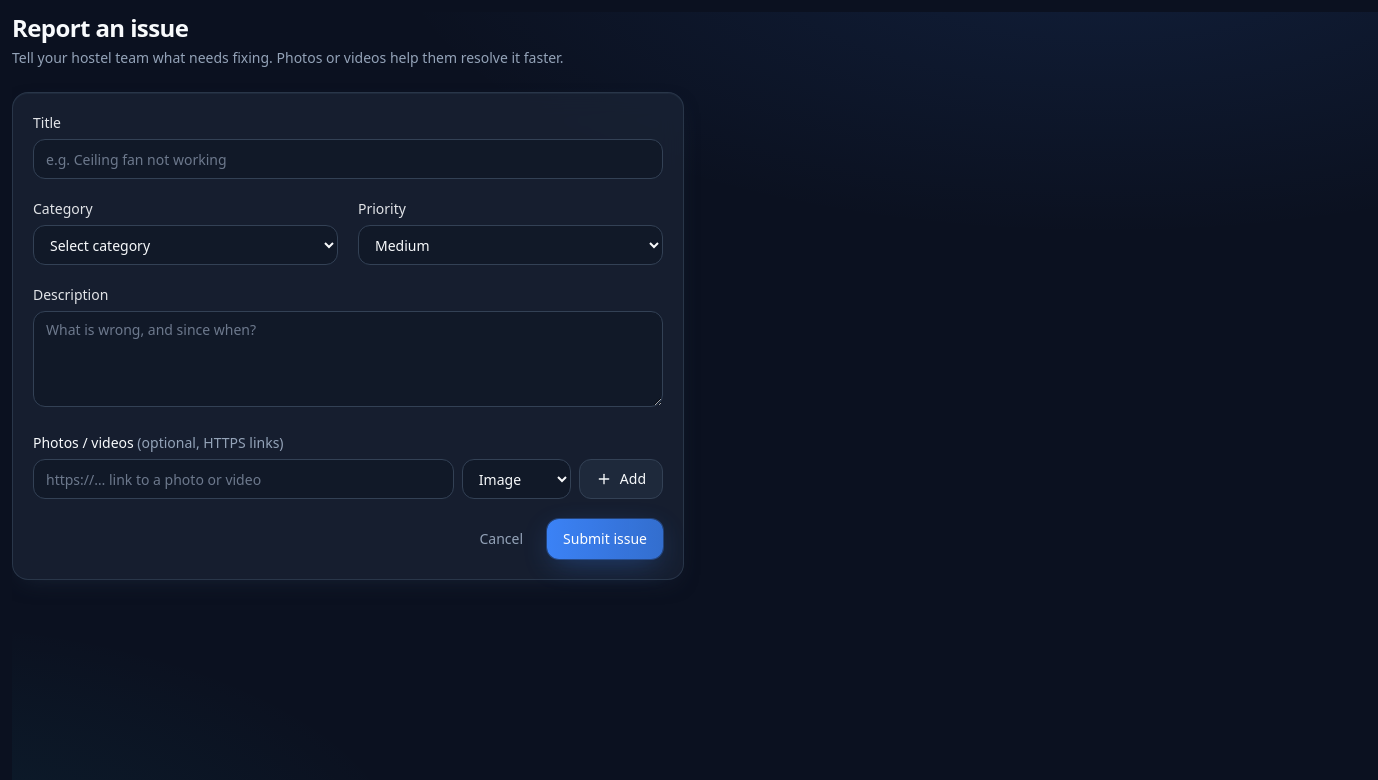
Test: create issue form › rejects non-https media links and submits a valid issue
In the field labelled "Title": (348, 159) [33,139,663,179], type "Leaking tap"
Select "Plumbing" in the dropdown labelled "Category": (186, 245) [33,225,338,265]
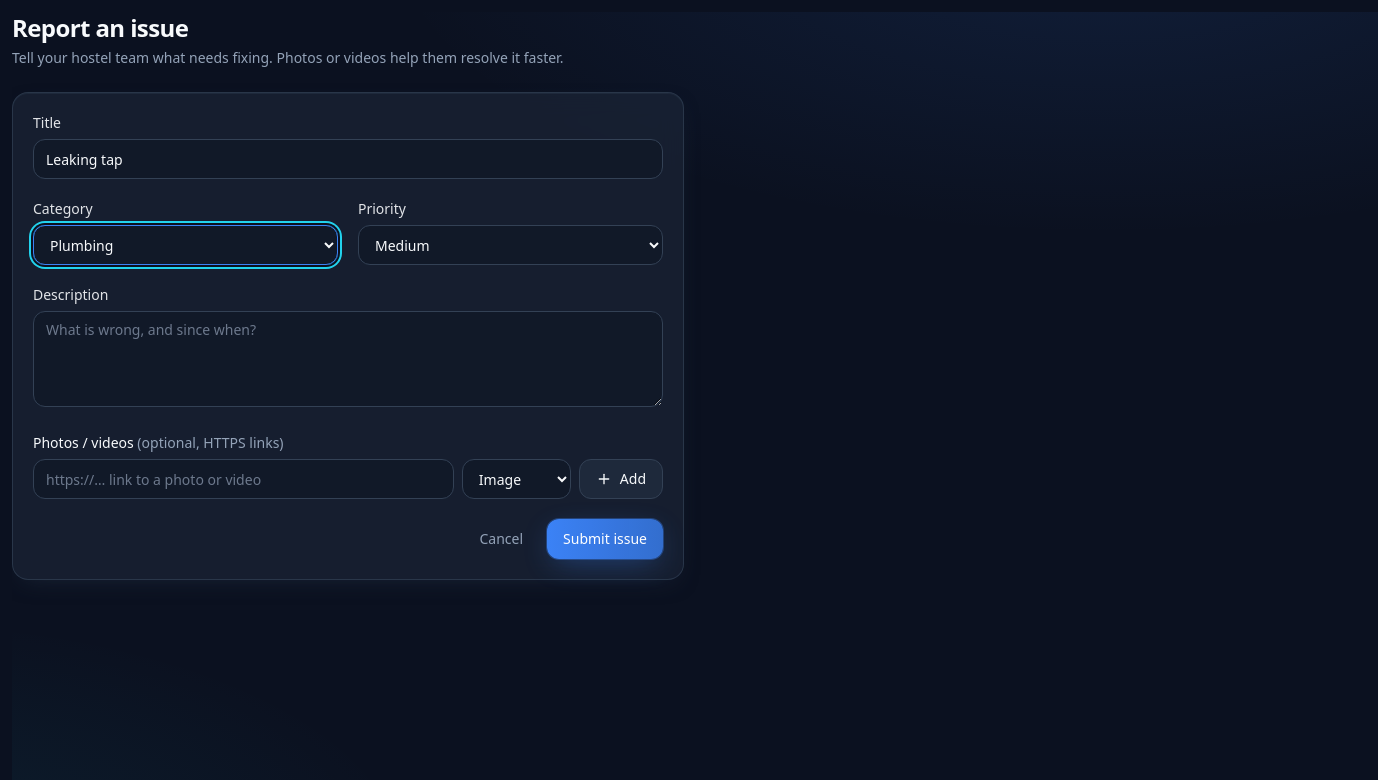
In the text box labelled "Description": (348, 359) [33,311,663,407], type "The tap in the bathroom leaks constantly."
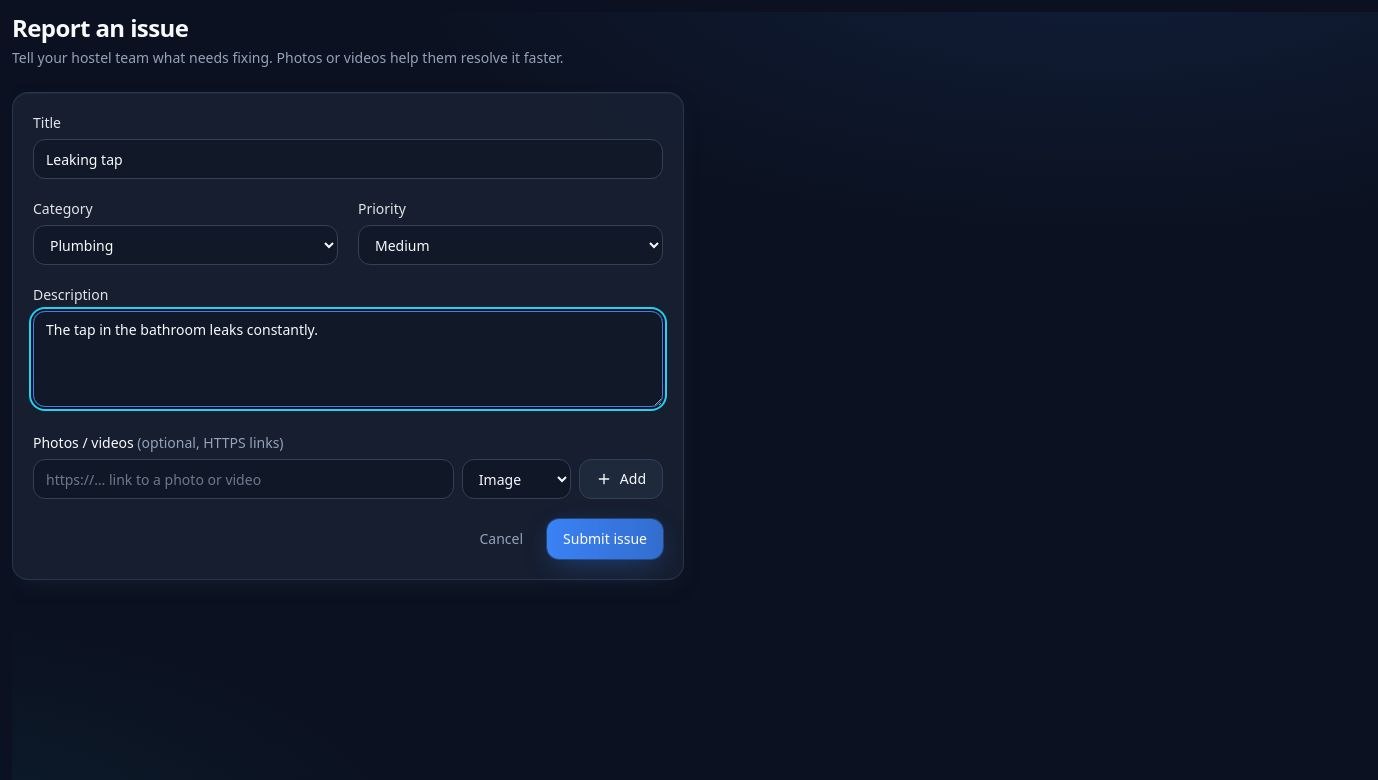
In the field named "Media URL": (243, 479) [33,459,454,499], type "http://insecure.example/a.png"
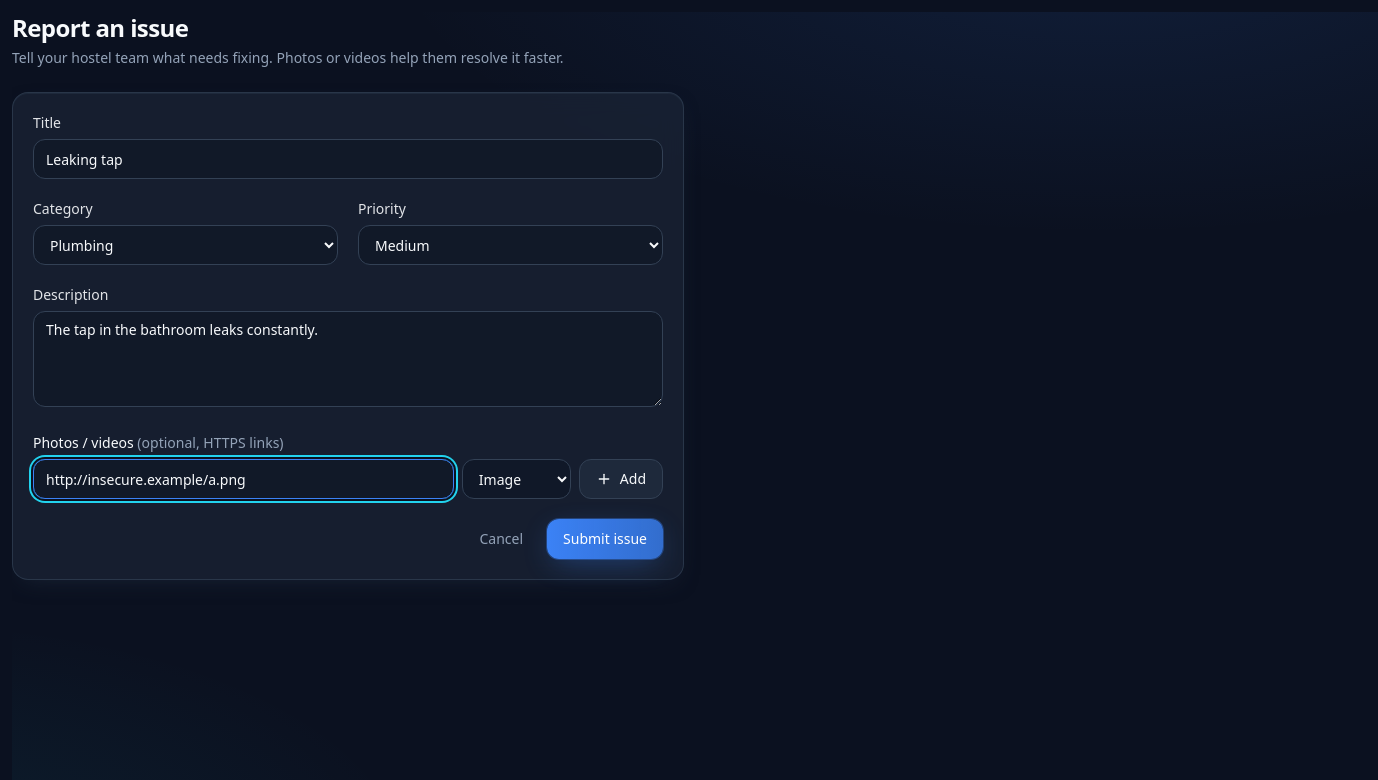
Click the button "Add": (621, 479) [579,459,663,499]
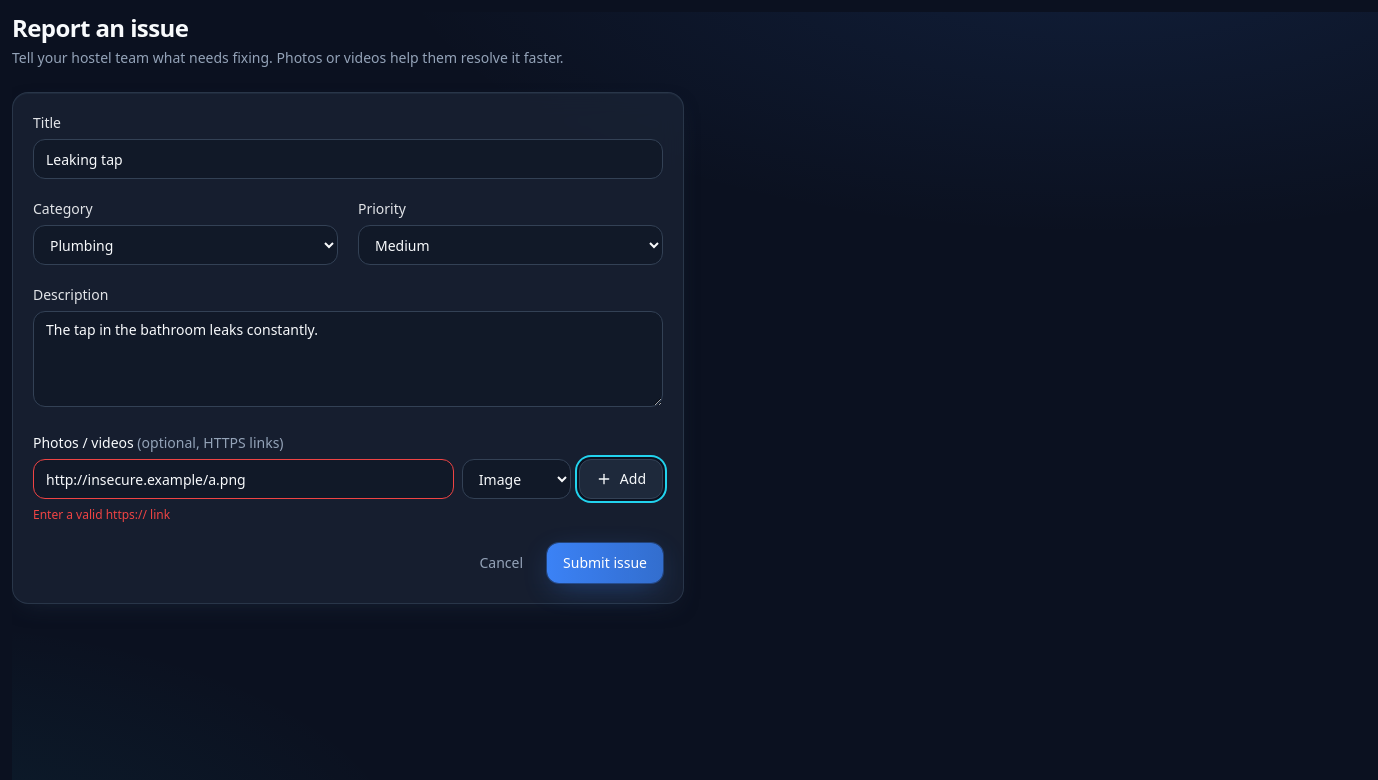
Check: the text "Enter a valid https:// link" is shown, box [33,506,170,523]
Replace the text in the field named "Media URL" with "https://picsum.photos/seed/a/600/400": (243, 479) [33,459,454,499]
Click the button "Add": (621, 479) [579,459,663,499]
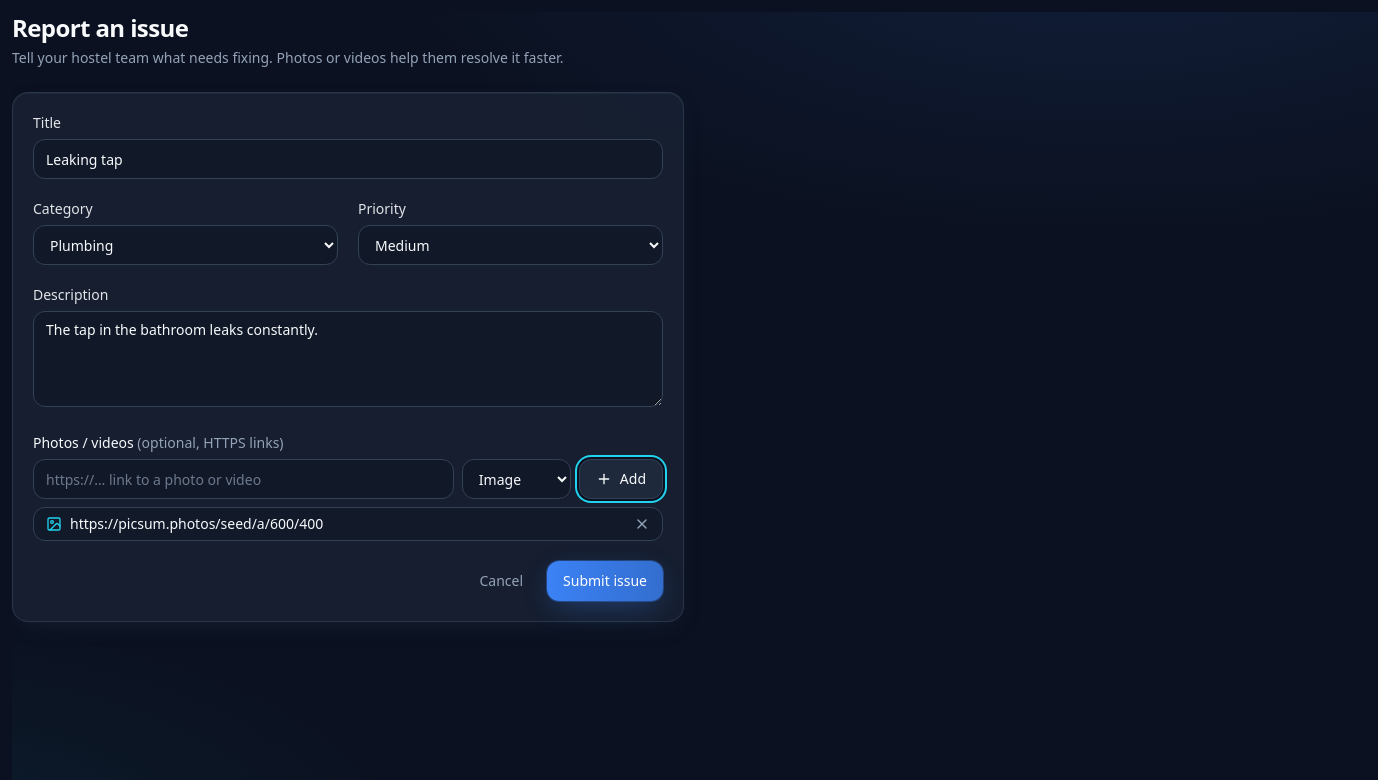
Click the button "Submit issue": (605, 581) [547,561,663,601]
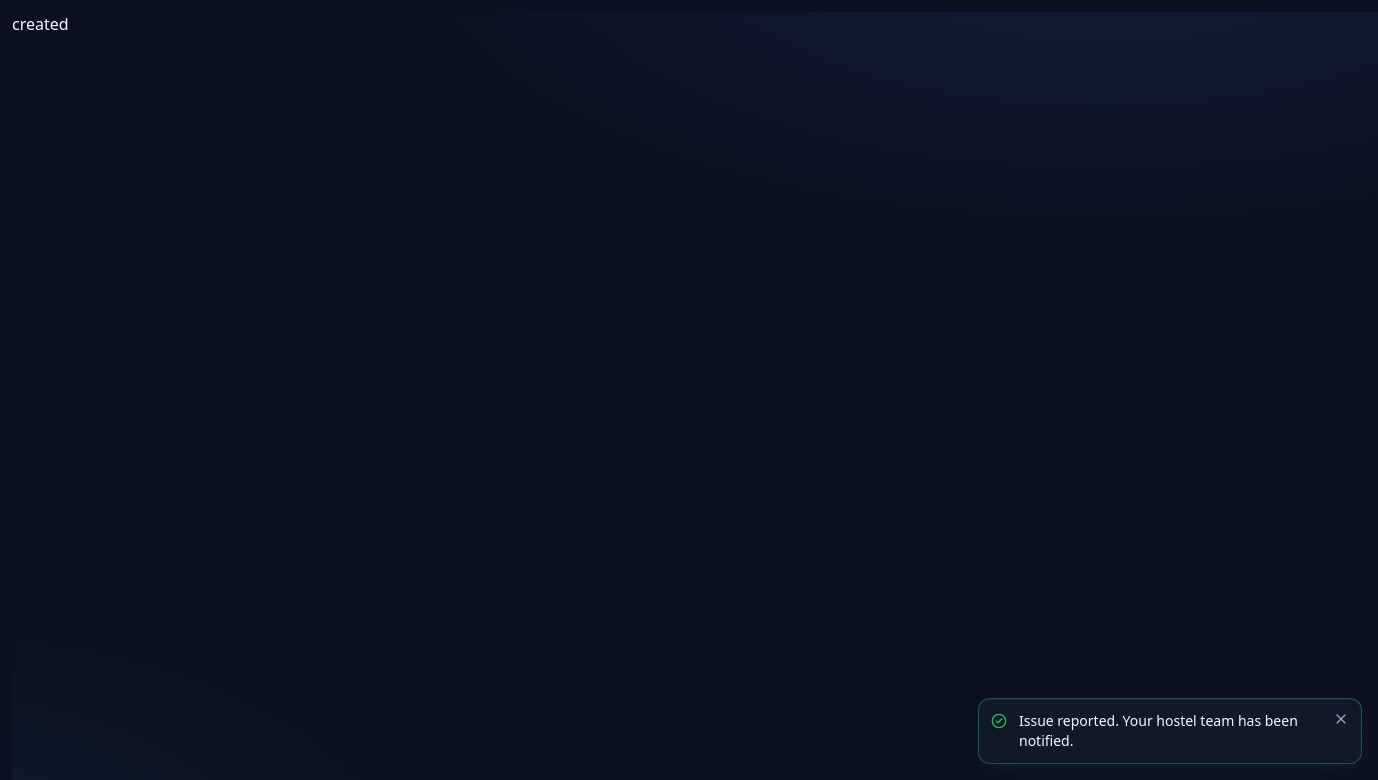
Check: the text "created" is shown, box [12,13,69,35]
